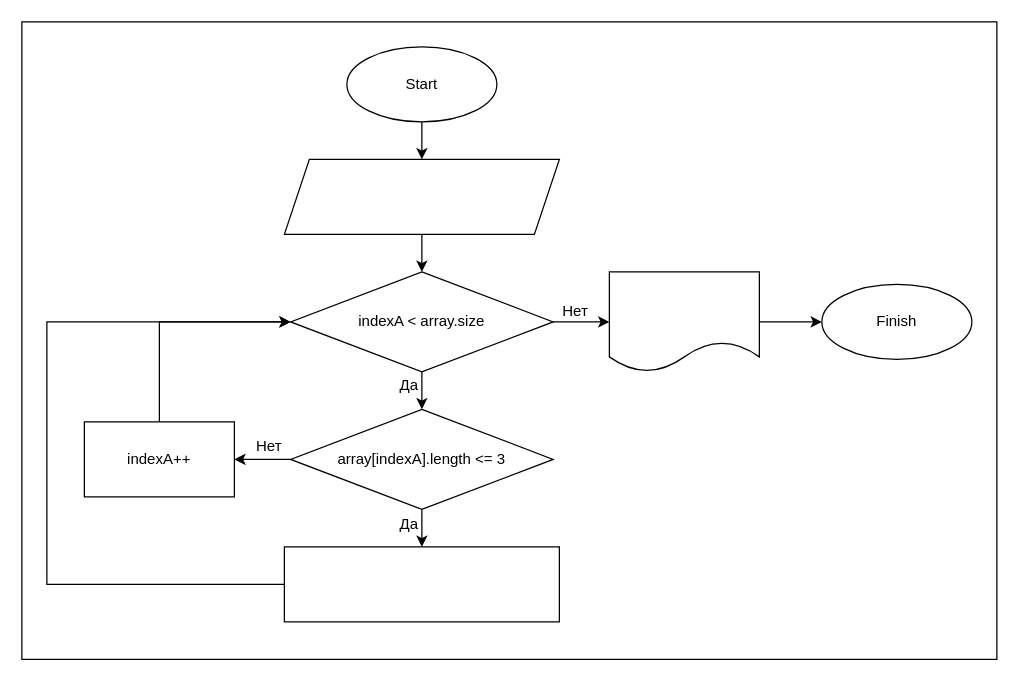
Image size: 1019x681. Some labels were removed from this diagram. Each missing label, with the centre of its shape:
"array[n] mainArray[] indexA = 0 indexM = 0" belongs at (x=421, y=196).
"mainArray[indexM] = array[indexA] indexA ++ indexM++" belongs at (x=421, y=584).
"print(mainArray[])" belongs at (x=683, y=321).
